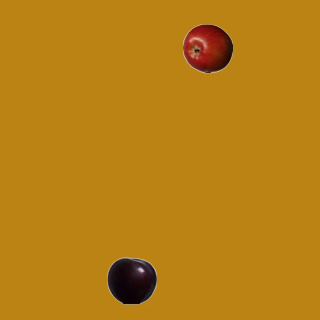Apple Braeburn: (182, 23, 232, 73)
Cherry Wax Black: (106, 255, 156, 305)
